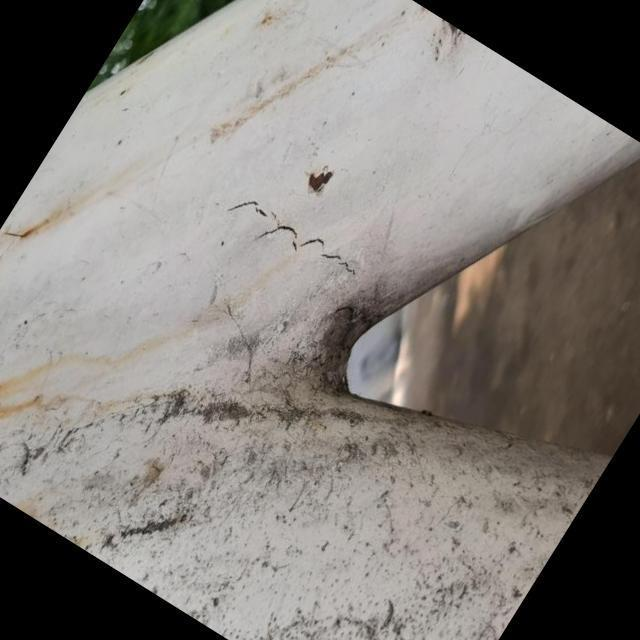defect: (217, 189, 361, 290)
